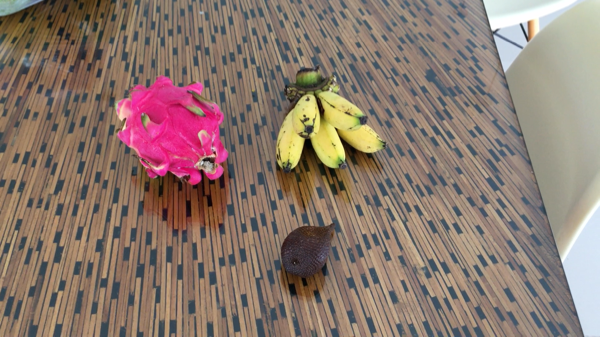banana: (270, 65, 386, 176)
dragon fruit: (118, 80, 231, 186)
snake fruit: (284, 221, 340, 275)
